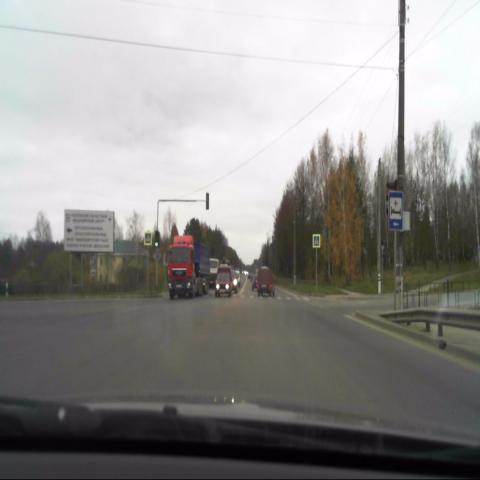7_2: (390, 190, 404, 230)
